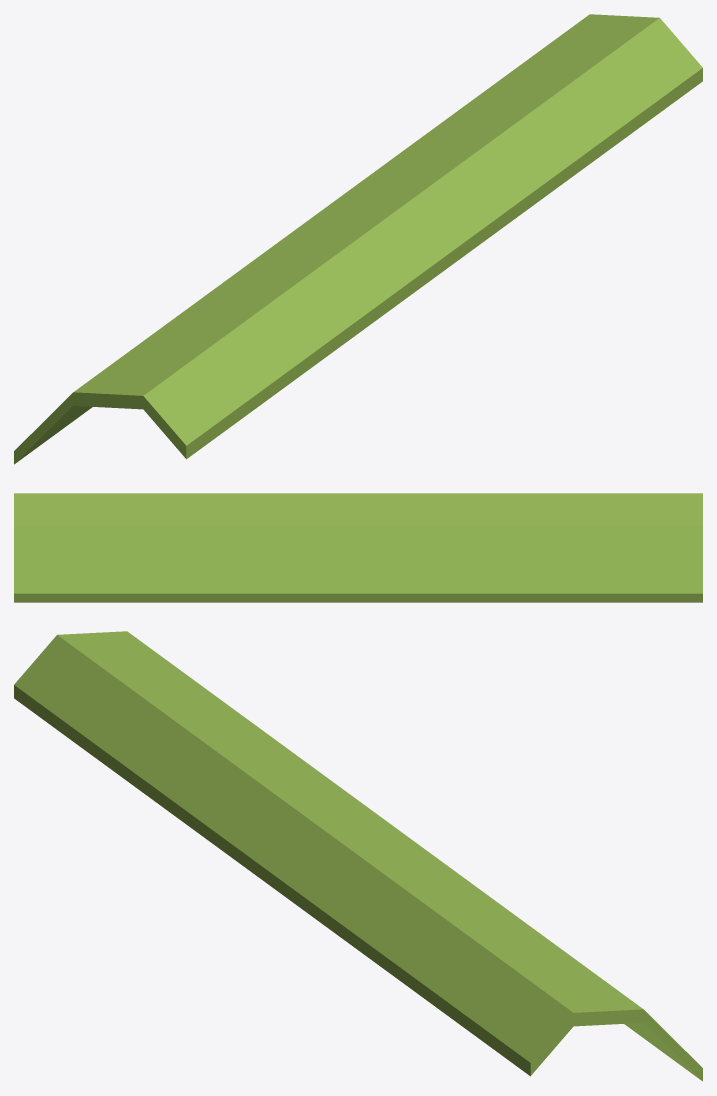
3 views of the same model, one above another, from view 1: azimuth 30°, elevation 25°; view 2: azimuth 150°, elevation 25°; view 3: azimuth 270°, elevation 25° (orthographic). The views are drawn at different scales.
Parts seen in each view (by area): view 1: 支流2_左岸折纸.001; view 2: 支流2_左岸折纸.001; view 3: 支流2_左岸折纸.001.
Part boxes in pixels (<box>): 支流2_左岸折纸.001: <box>14,14,702,464</box>; 支流2_左岸折纸.001: <box>14,493,702,602</box>; 支流2_左岸折纸.001: <box>14,631,702,1081</box>.
Bounding box in the file's own units: 0.7988 × 0.089 × 0.5536.
